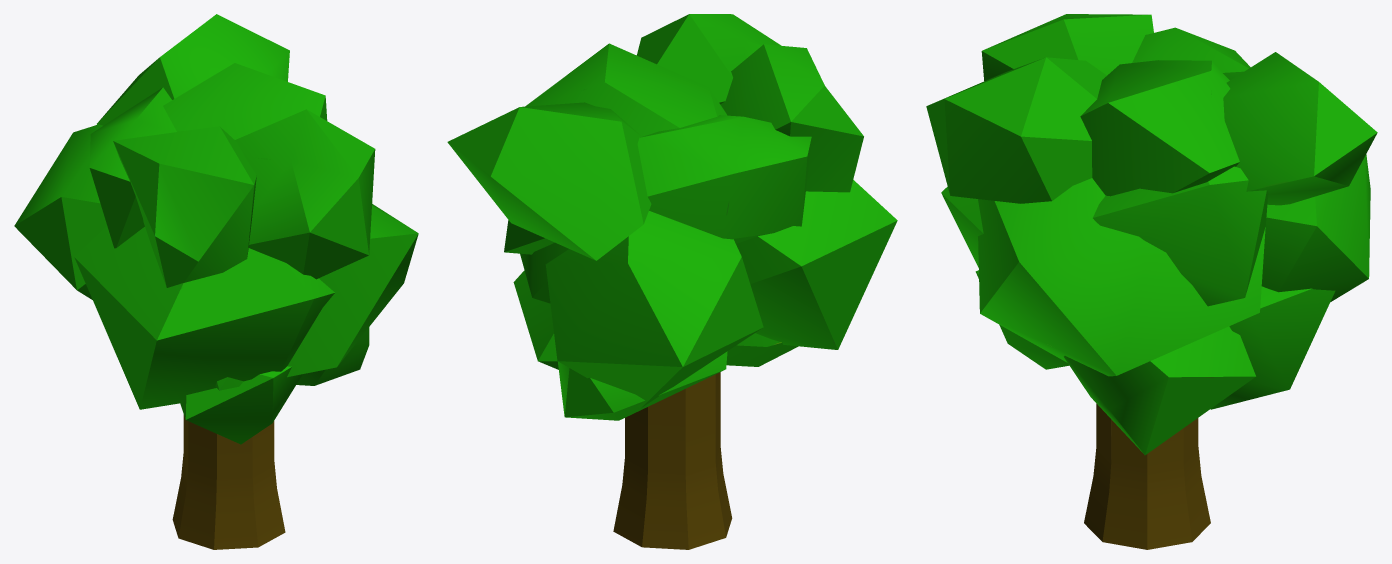
The model's file is Tree_1.fbx.
3 views of the same model, side by side, from view 1: azimuth 30°, elevation 25°; view 2: azimuth 150°, elevation 25°; view 3: azimuth 270°, elevation 25° (orthographic). The views are drawn at different scales.
Visible parts, largest first — view 1: Tree 1; view 2: Tree 1; view 3: Tree 1.
Boxes of the visible parts, bbox=[...] form: Tree 1: bbox=[14, 14, 418, 549]; Tree 1: bbox=[447, 14, 897, 549]; Tree 1: bbox=[926, 14, 1377, 549].
Size of the model in its own units: 122 by 171 by 145.
